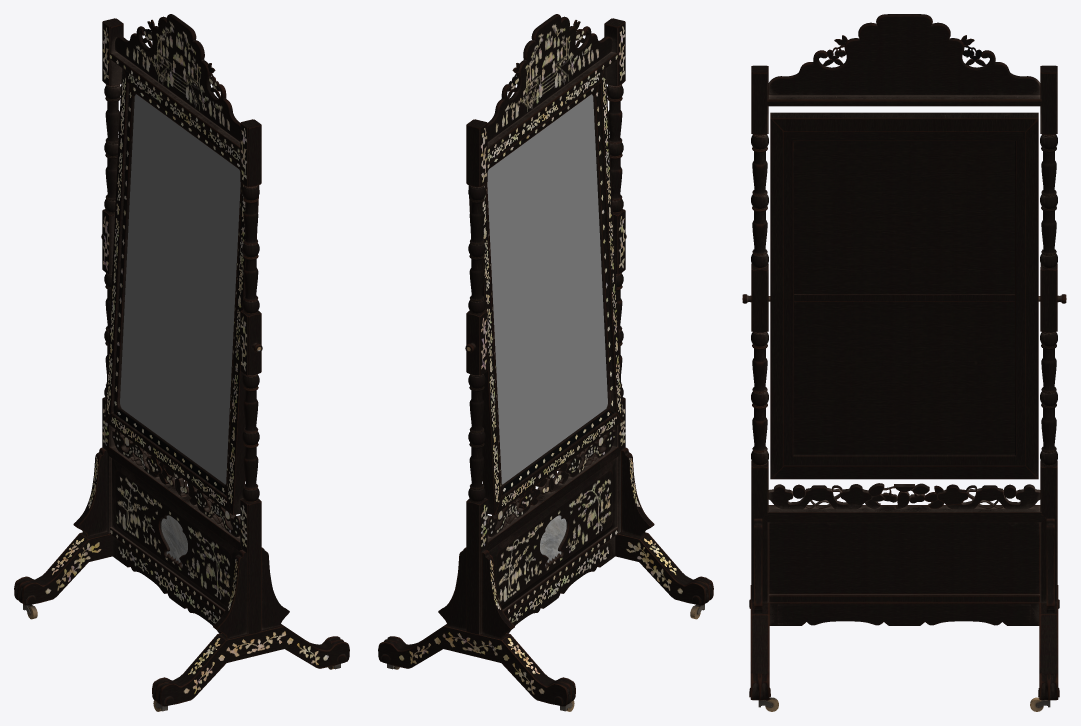
The model's file is SM_Mirror01A.fbx.
The picture shows the model from 3 angles, left to right: view 1: azimuth 30°, elevation 25°; view 2: azimuth 150°, elevation 25°; view 3: azimuth 270°, elevation 25°; orthographic projection. The views are drawn at different scales.
Visible parts, largest first — view 1: SM_Mirror01A; view 2: SM_Mirror01A; view 3: SM_Mirror01A.
Part boxes in pixels (x1,y1,x2,y2): SM_Mirror01A: [14, 14, 349, 711]; SM_Mirror01A: [378, 14, 713, 711]; SM_Mirror01A: [742, 14, 1066, 711].
Size of the model in its own units: 68.65 by 96.98 by 215.
